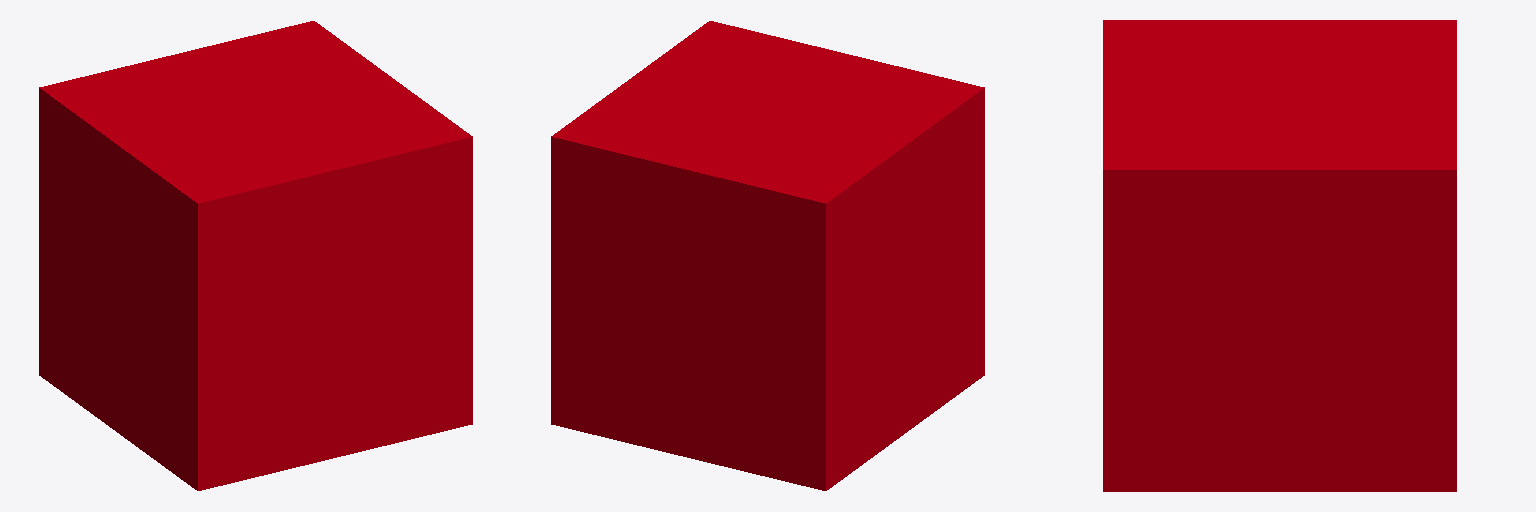
robot.urdf — cube_candy:
<?xml version="1.0" ?>
<robot name="cube_candy">
  <link name="candy">
    <inertial>
      <origin
        xyz="0.0 0.0 0.0"
        rpy="0 0 0" />
      <mass value="2.0" />
      <inertia  ixx="0.000005" ixy="0.0"  ixz="0.0"  iyy="0.000005"  iyz="0.0"  izz="0.000005" />
    </inertial>
    <visual>
      <origin xyz="0.0 0.0 0.0"/>
      <geometry>
        <box size="0.05 0.05 0.05" />
      </geometry>
       <material name="red">
        <color rgba=".8 0 .1 1"/>
      </material>
    </visual>
    <collision>
     <origin
        xyz="0.0 0 0"
        rpy="0 0 0" />
      <geometry>
        <box size="0.05 0.05 0.05" />
      </geometry>
      <contact_coefficients mu="2"/>
    </collision>
  </link>
  <gazebo reference="cube_candy">
    <material>Gazebo/Red</material>
  </gazebo>
</robot>

--- Facts derived from the render (not from the file) ---
3 views of the same robot in one strip: view 1: azimuth 30°, elevation 25°; view 2: azimuth 150°, elevation 25°; view 3: azimuth 270°, elevation 25° (orthographic).
Model cube_candy with 1 links and 0 joints (none), rooted at candy, posed all joints at 0.
Visible links, largest first — view 1: candy; view 2: candy; view 3: candy.
Boxes of the visible links, x1,y1,x2,y2 form: candy: (39, 21, 472, 490); candy: (551, 21, 984, 490); candy: (1103, 20, 1456, 491).
Bounding box of the posed robot: 0.05 × 0.05 × 0.05 m (x, y, z).
Geometry: primitives only (box / cylinder / sphere), no mesh files.